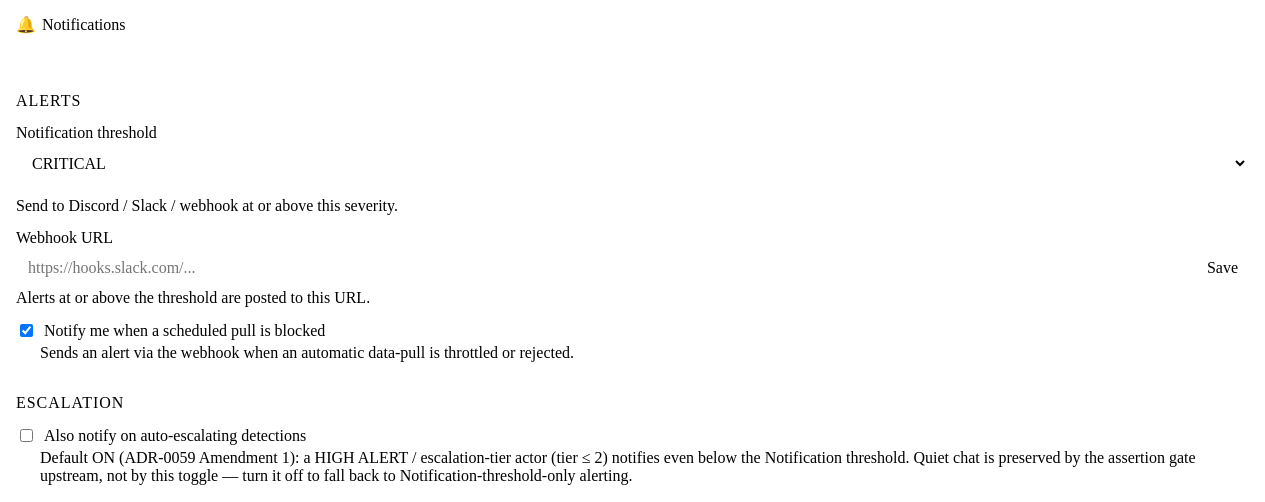
Test case: NotificationsPanel — WebhookField › shows "Webhook URL saved" toast after successful save
Type "https://hooks.slack.com/abc" into the field with test id "webhook-url-input" at (602, 268), box [16,251,1189,285]
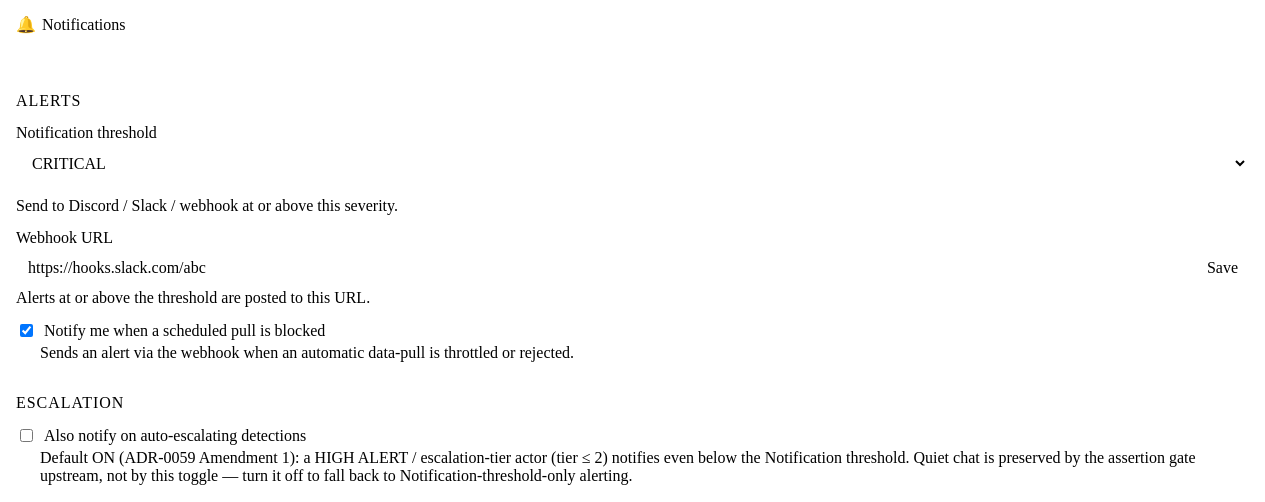
Click the button with test id "webhook-url-save" at (1222, 268), box [1197,251,1248,285]
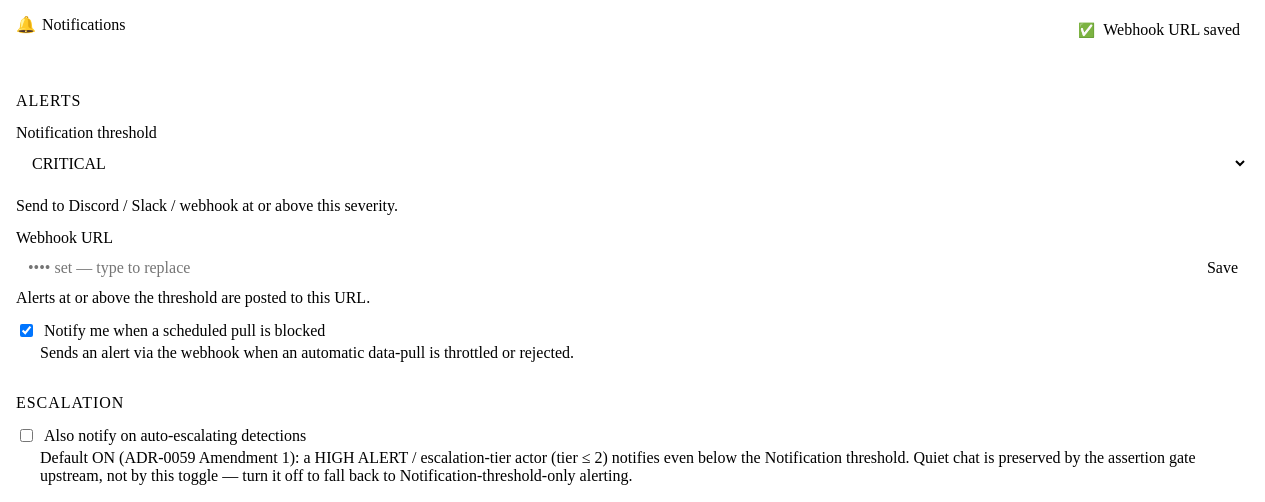
Result: the message shows "Webhook URL saved" at [1103,21,1240,38]
